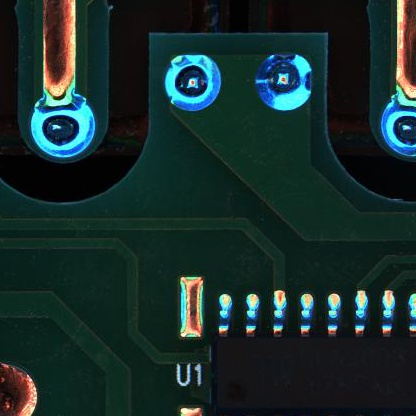spot: (28, 94, 95, 159), (165, 52, 221, 111), (257, 55, 315, 111)
